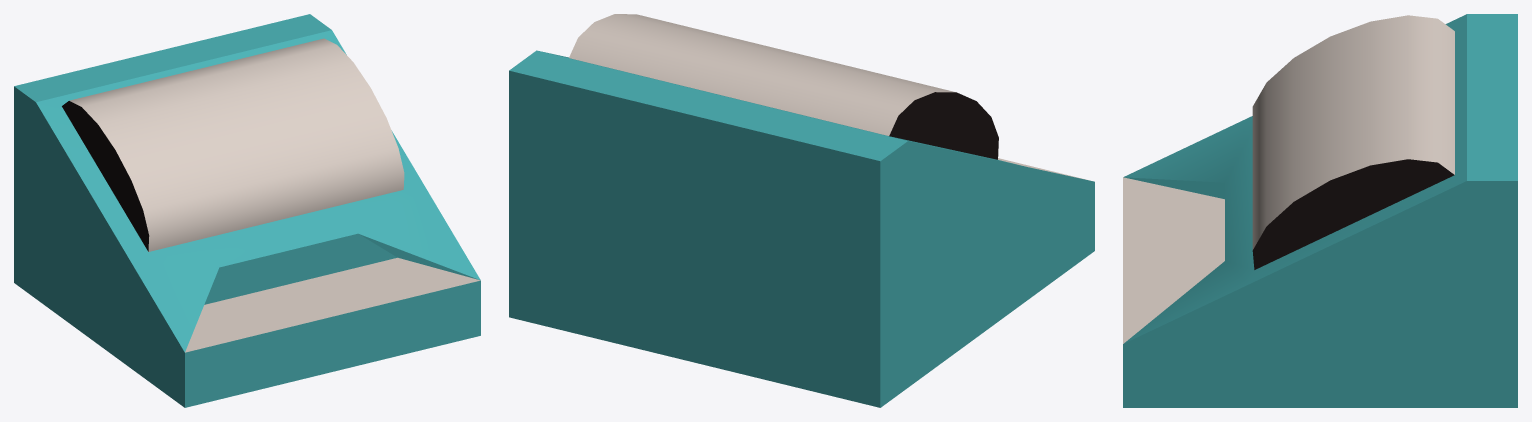
Rendered from CI_173_surveillance_system_control.glb.
3 views of the same model, side by side, from view 1: azimuth 30°, elevation 25°; view 2: azimuth 150°, elevation 25°; view 3: azimuth 270°, elevation 25° (orthographic). The views are drawn at different scales.
Parts seen in each view (by area): view 1: control; view 2: control; view 3: control.
Part boxes in pixels (left/top/right/bottom): control: left=14, top=14, right=480, bottom=407; control: left=509, top=14, right=1094, bottom=407; control: left=1123, top=14, right=1517, bottom=407.
Bounding box in the file's own units: 0.75 × 0.4974 × 0.75.
